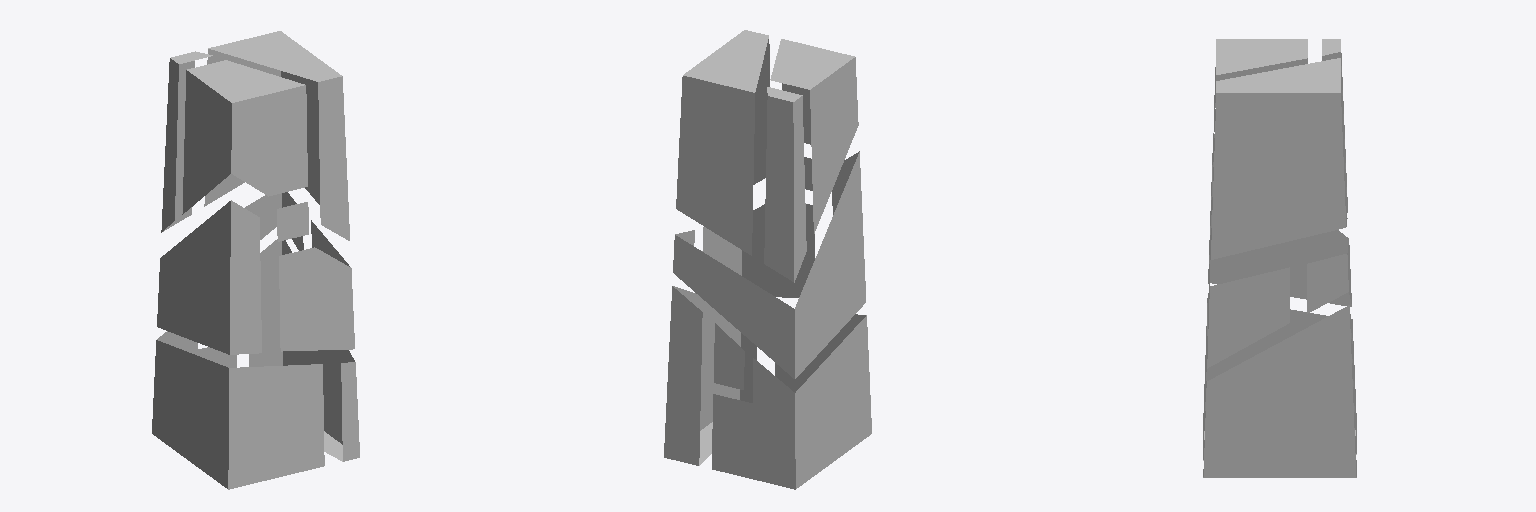
3 views of the same model, side by side, from view 1: azimuth 30°, elevation 25°; view 2: azimuth 150°, elevation 25°; view 3: azimuth 270°, elevation 25° (orthographic).
Visible parts, largest first — view 1: Shell_立方体.006; view 2: Shell_立方体.006; view 3: Shell_立方体.006.
Part boxes in pixels (left/top/right/bottom): Shell_立方体.006: left=152, top=31, right=359, bottom=489; Shell_立方体.006: left=664, top=30, right=871, bottom=489; Shell_立方体.006: left=1203, top=39, right=1356, bottom=477.
Bounding box in the file's own units: 2.18 × 6 × 2.19.
Materials: 1 (1 with a texture image).